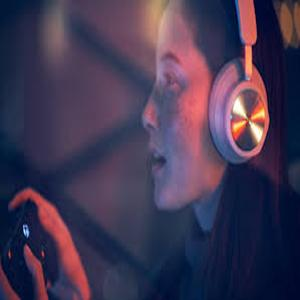Headphones: (189, 1, 272, 163)
